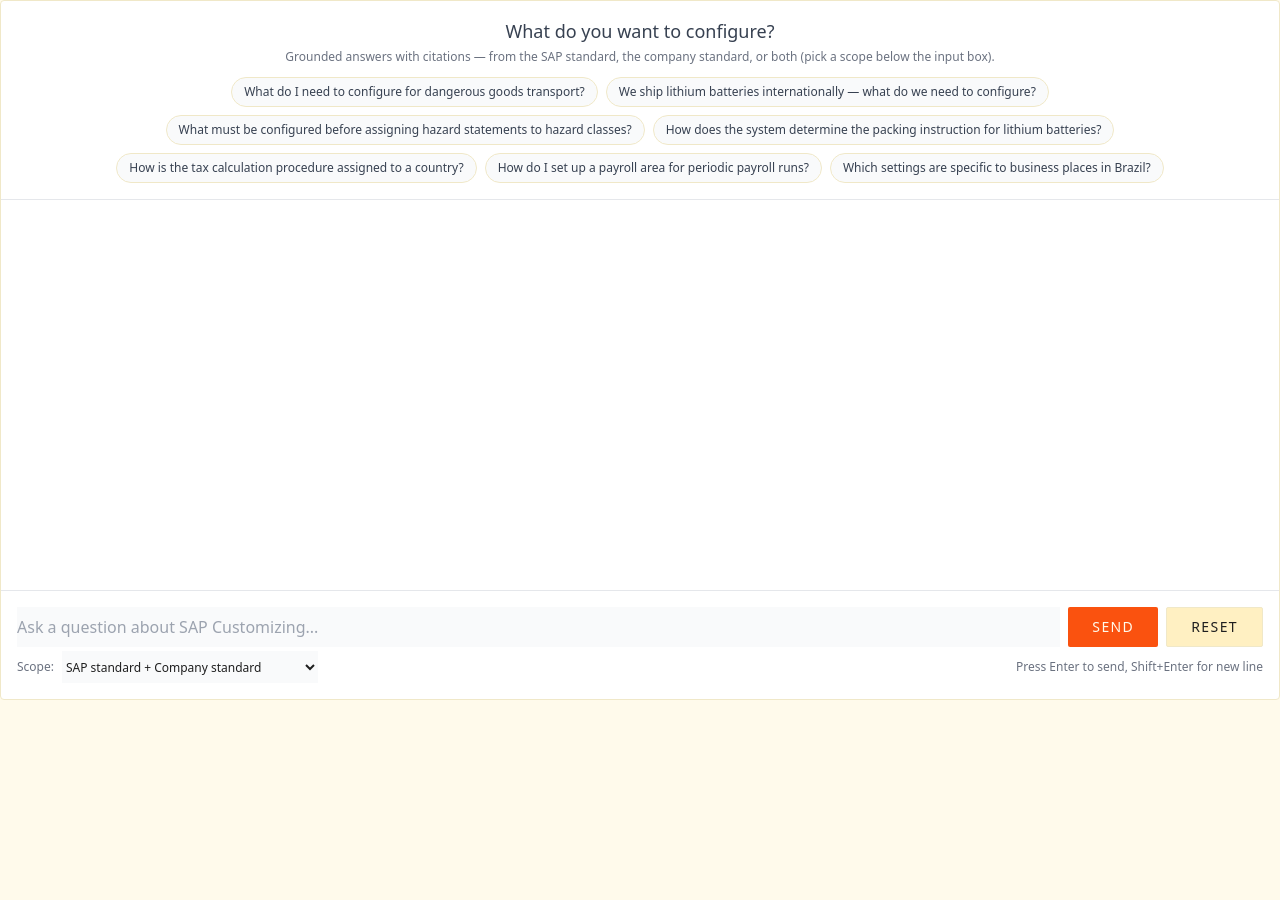
HomePage › displays citations when present
Type "Test" into the field with placeholder "Ask a question about SAP Customizing..." at (539, 627), box [17, 607, 1060, 647]
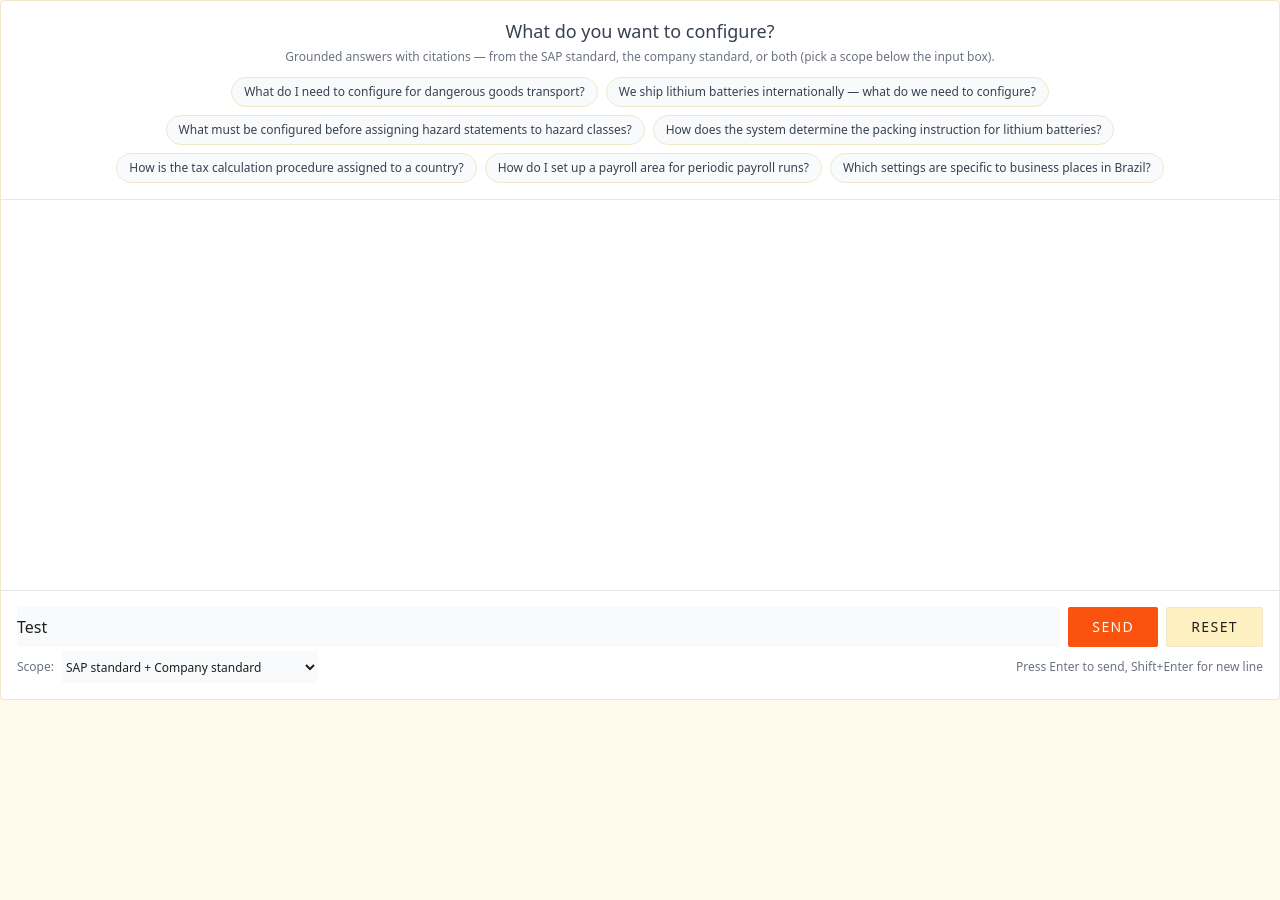
Press Enter in the field with placeholder "Ask a question about SAP Customizing...", box [17, 607, 1060, 647]
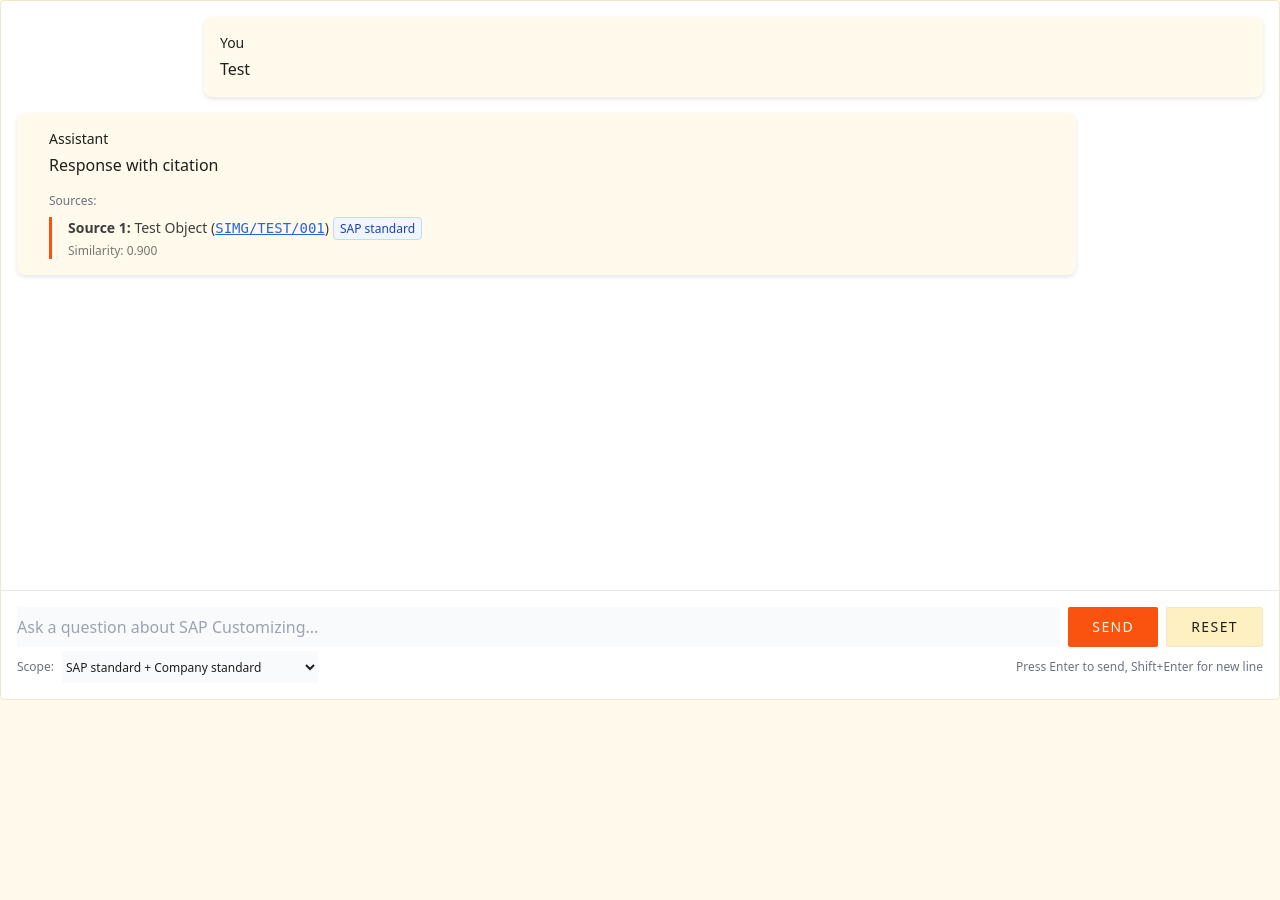
Expected: the text "Sources:" is shown, [49, 192, 96, 209]
Expected: the button "SIMG/TEST/001" is shown, [215, 218, 325, 239]
